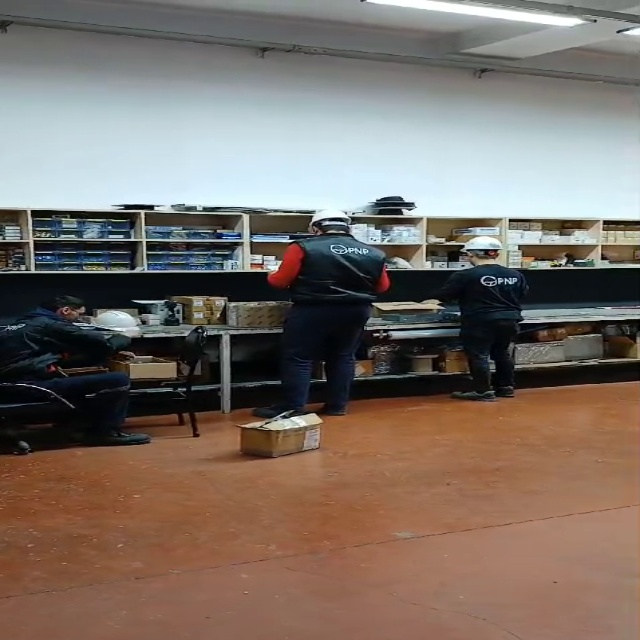safety_helmet: (93, 310, 142, 337), (308, 208, 352, 234), (460, 235, 503, 255)
